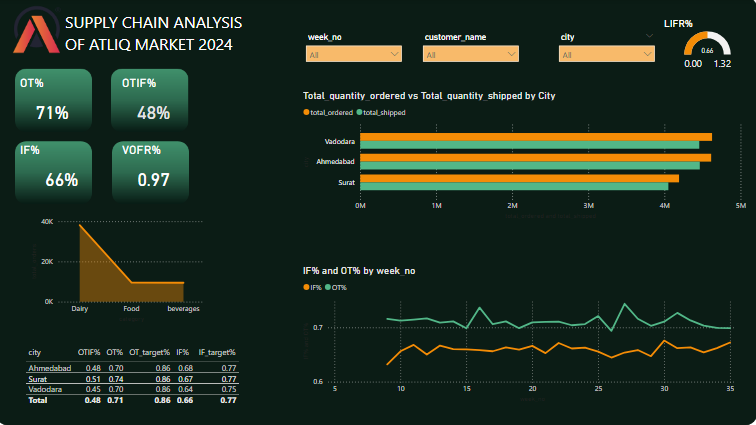

Layout of this report page (visuals, bound fields, positions):
{"tool":"powerbi","page":{"name":"Page 1","canvas":[1280,720],"ordinal":0},"visuals":[{"type":"card","title":"OT%","fields":{"Values":["fact_order_lines.OT%"]},"box":[35.3,129.3,117.6,97.4],"z":0},{"type":"card","title":"IF%","fields":{"Values":["fact_order_lines.IF%"]},"box":[35.3,241.9,149.5,95.7],"z":1000},{"type":"card","title":"OTIF%","fields":{"Values":["fact_order_lines.OTIF%"]},"box":[206.6,129.3,115.9,97.4],"z":2000},{"type":"tableEx","fields":{"Values":["dim_customers.city","fact_order_lines.OTIF%","fact_order_lines.OT%","fact_order_lines.OT_target%","fact_order_lines.IF%","fact_order_lines.IF_target%"]},"box":[43.7,579.5,404.8,126],"z":3000},{"type":"clusteredBarChart","title":"Total_quantity_ordered vs Total_quantity_shipped by City","fields":{"Category":["dim_customers.city"],"Y":["fact_order_lines.total_quantity_ordered","fact_order_lines.total_quantity_shipped"]},"box":[510.7,151.2,754.2,223.4],"z":5000},{"type":"slicer","fields":{"Values":["dim_customers.customer_name"]},"box":[707.2,50.4,181.4,79],"z":6000},{"type":"slicer","fields":{"Values":["dim_customers.city"]},"box":[935.6,50.4,181.4,79],"z":7000},{"type":"lineChart","fields":{"Category":["fact_order_lines.week_no"],"Y":["fact_order_lines.IF%","fact_order_lines.OT%"]},"box":[510.7,445.1,737.4,236.9],"z":8000},{"type":"gauge","fields":{"Y":["fact_order_lines.LIFR%"]},"box":[1117.1,30.2,156.2,99.1],"z":9000},{"type":"areaChart","fields":{"Category":["dim_products.category"],"Y":["fact_order_lines.total_orders"]},"box":[53.8,359.5,304,188.1],"z":10000},{"type":"card","title":"VOFR%","fields":{"Values":["fact_order_lines.VOFR%"]},"box":[206.6,241.9,115.9,95.7],"z":11000},{"type":"textbox","box":[110.9,15.1,322.5,87.3],"z":12000},{"type":"image","box":[16.8,5,105.8,90.7],"z":13000},{"type":"slicer","fields":{"Values":["fact_order_lines.week_no"]},"box":[510.7,50.4,181.4,79],"z":13001}]}

Visuals, with their boxes in screenshot pixels (x1, y1, x2, y2), scaled from the page's 1280x720 canvas onto the 756x425 screenshot:
"OT%" card: (21,76,90,134)
"IF%" card: (21,143,109,199)
"OTIF%" card: (122,76,190,134)
tableEx - dim_customers.city x fact_order_lines.OTIF%: (26,342,265,416)
"Total_quantity_ordered vs Total_quantity_shipped by City" clusteredBarChart: (302,89,747,221)
slicer - dim_customers.customer_name: (418,30,525,76)
slicer - dim_customers.city: (553,30,660,76)
lineChart - fact_order_lines.week_no x fact_order_lines.IF%: (302,263,737,403)
gauge - fact_order_lines.LIFR%: (660,18,752,76)
areaChart - dim_products.category x fact_order_lines.total_orders: (32,212,211,323)
"VOFR%" card: (122,143,190,199)
textbox: (66,9,256,60)
image: (10,3,72,56)
slicer - fact_order_lines.week_no: (302,30,409,76)
